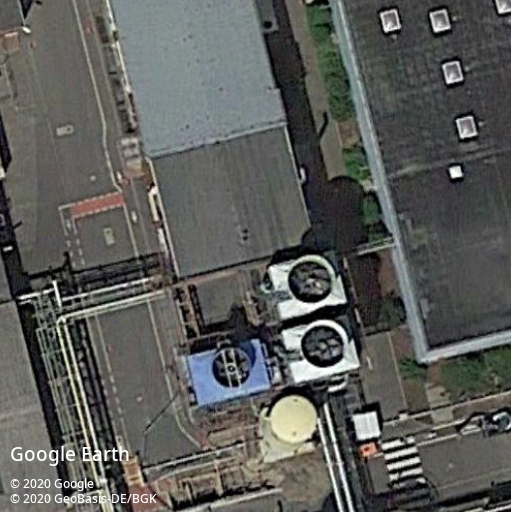Vent: (286, 255, 336, 304), (299, 319, 347, 369), (211, 347, 253, 389)
